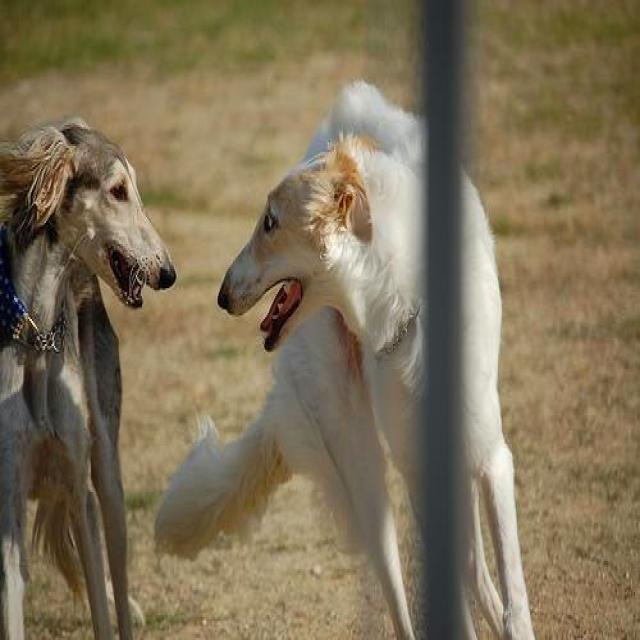saluki: (153, 77, 538, 638), (0, 115, 182, 638)
